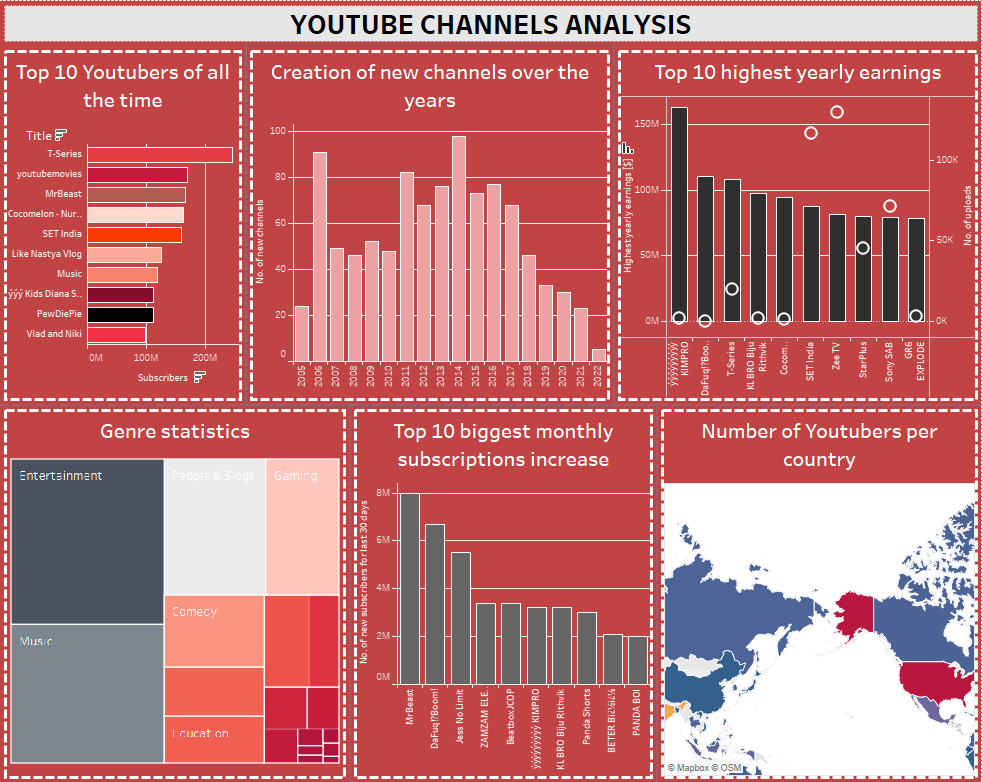

The page's visual inventory and layout, read from the dashboard file:
{"tool":"tableau","page":{"name":"Dashboard 1","canvas":[1000,800],"ordinal":0},"visuals":[{"type":"title","box":[9,9,982,45]},{"type":"worksheet","title":"Sheet 1","mark":"Automatic","rows":["Title"],"cols":["subscribers"],"box":[9,54,245.5,359]},{"type":"worksheet","title":"Sheet 5","mark":"Bar","rows":["Title"],"cols":["created_year"],"box":[254.5,54,368.2,359]},{"type":"worksheet","title":"Sheet 3","mark":"Bar","rows":["highest_yearly_earnings","uploads"],"cols":["Title"],"box":[622.8,54,368.2,359]},{"type":"worksheet","title":"Sheet 2","mark":"Automatic","box":[9,413,350.5,378]},{"type":"worksheet","title":"Sheet 4","mark":"Automatic","rows":["subscribers_for_last_30_days"],"cols":["Title"],"box":[359.5,413,306.5,378]},{"type":"worksheet","title":"Sheet 6","mark":"Automatic","box":[666,413,325,378]}]}

Visuals, with their boxes in screenshot pixels (x1, y1, x2, y2), scaled from the page's 1000x800 canvas onto the 982x782 screenshot:
title: locate(9, 9, 973, 53)
"Sheet 1" worksheet: locate(9, 53, 250, 404)
"Sheet 5" worksheet (Bar marks): locate(250, 53, 611, 404)
"Sheet 3" worksheet (Bar marks): locate(612, 53, 973, 404)
"Sheet 2" worksheet: locate(9, 404, 353, 773)
"Sheet 4" worksheet: locate(353, 404, 654, 773)
"Sheet 6" worksheet: locate(654, 404, 973, 773)
